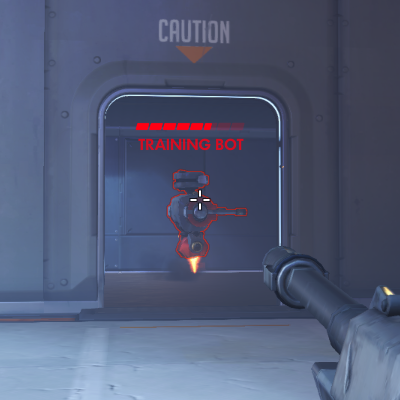hpbar: (135, 122, 245, 131)
